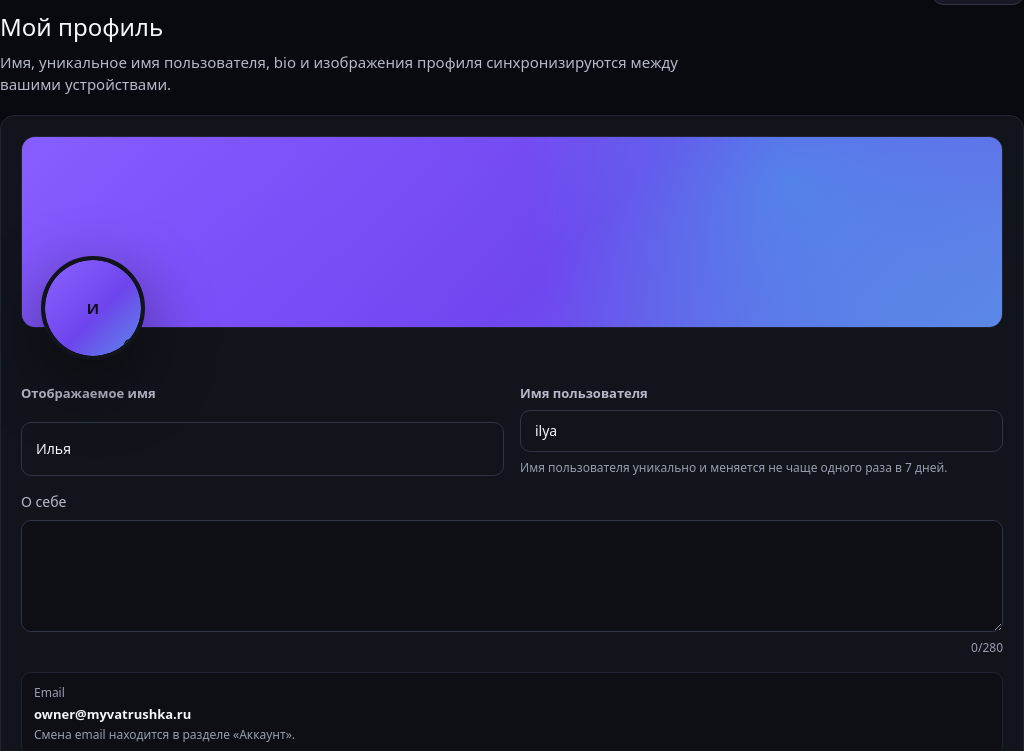
Scenario: routed user settings pages › does not send an invalid display name
This screenshot has width=1024, height=751.
Replace the text in the field labelled "Отображаемое имя" with "x" at (262, 449), box [34,429,491,469]
(page scrolled)
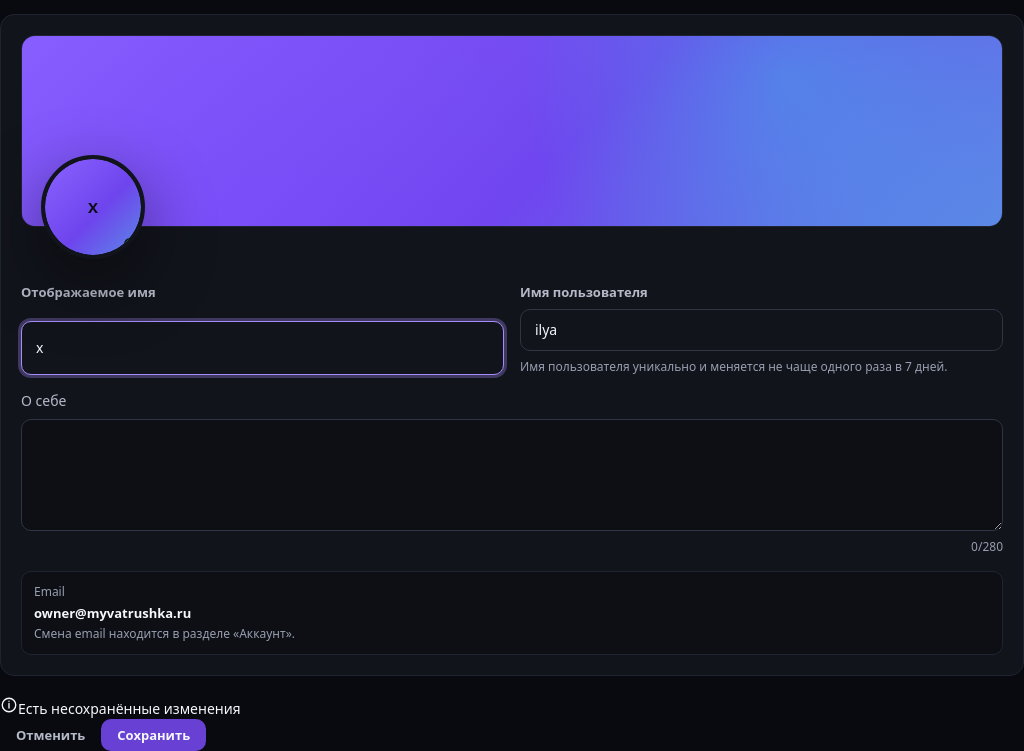
Click the button "Сохранить" at (154, 735), box [101,719,206,750]
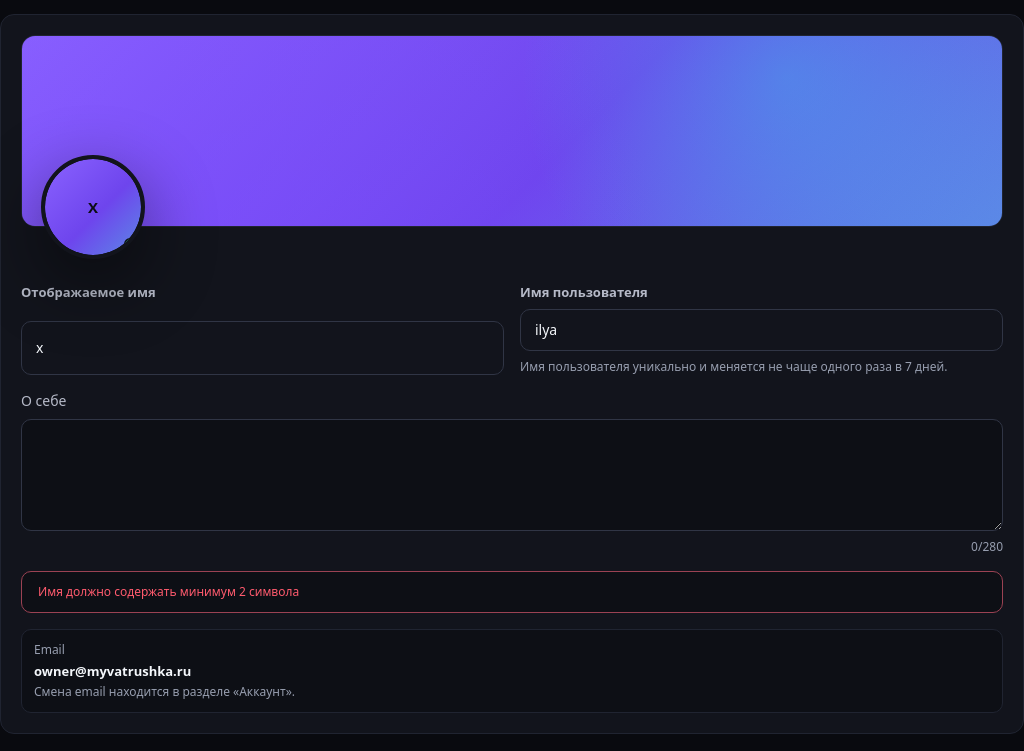
Now the text "Имя должно содержать минимум 2 символа" is shown, box [21,571,1003,613]
